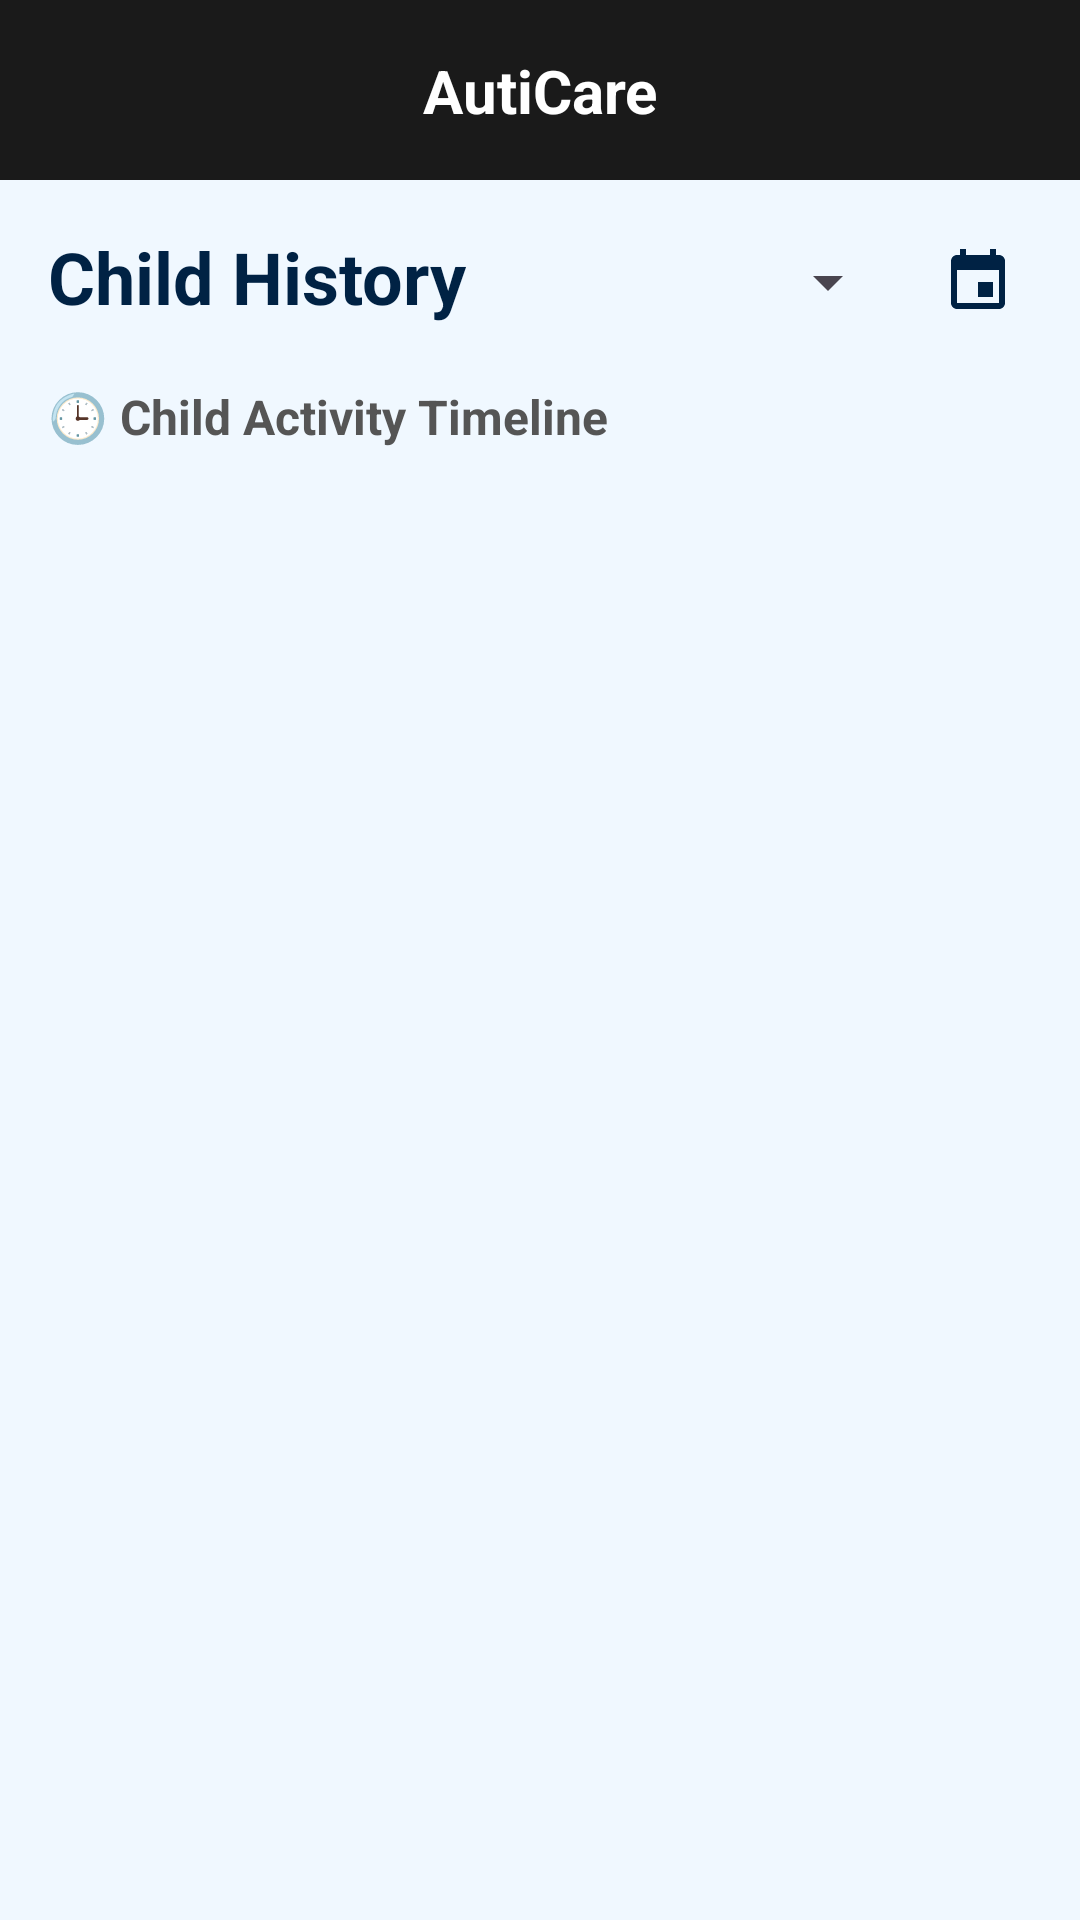

Named icons in this screenshot (1080 × 1920) and their centers, [x,y]:
calendar: [978,279]
